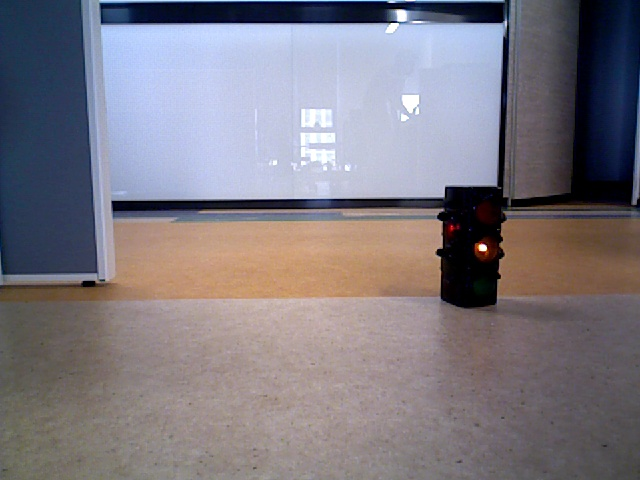yellow: (445, 187, 495, 306)
